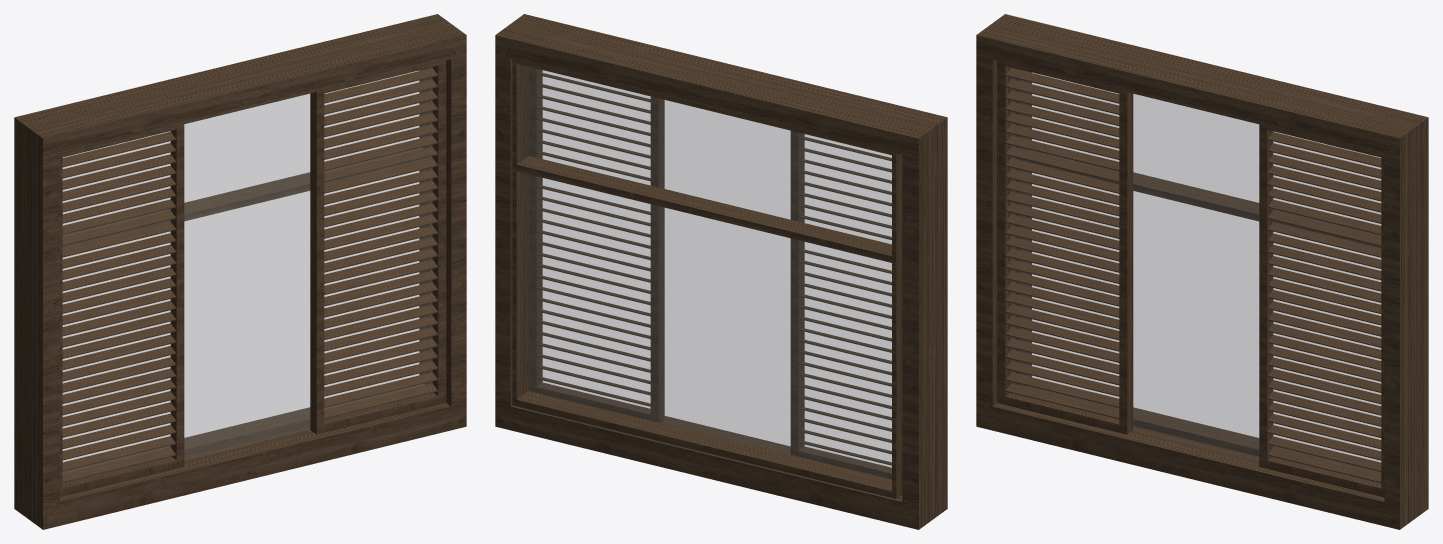
Rendered from Window.FBX.
3 renders of one model, left to right at view 1: azimuth 30°, elevation 25°; view 2: azimuth 150°, elevation 25°; view 3: azimuth 330°, elevation 25°, orthographic.
Visible parts, largest first — view 1: Window; view 2: Window; view 3: Window.
Part boxes in pixels (box(x1,y1,x2,y2)): Window: box(14, 14, 466, 529); Window: box(495, 14, 947, 529); Window: box(976, 14, 1428, 529).
Size of the model in its own units: 2026 by 240 by 1789.
Materials: 2 (1 with a texture image).
